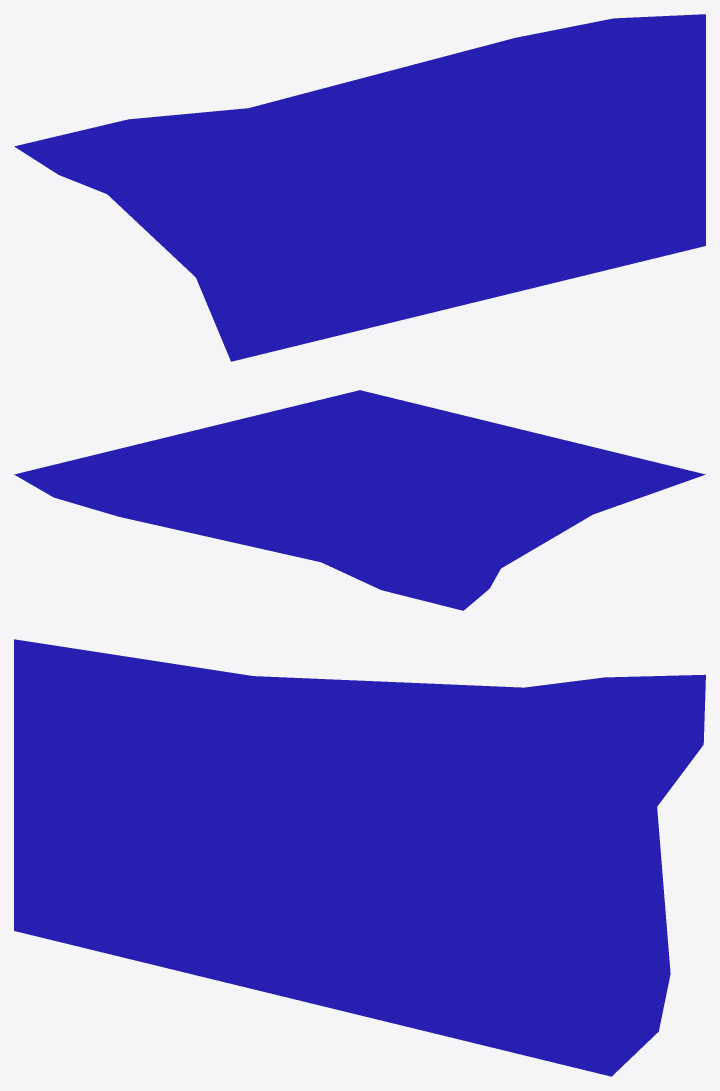
The model's file is agua2.fbx.
The picture shows the model from 3 angles, top to bottom: view 1: azimuth 30°, elevation 25°; view 2: azimuth 150°, elevation 25°; view 3: azimuth 270°, elevation 25°; orthographic projection. The views are drawn at different scales.
Parts seen in each view (by area): view 1: Cylinder007; view 2: Cylinder007; view 3: Cylinder007.
Boxes of the visible parts, left/top/right/bottom form: Cylinder007: left=14, top=14, right=705, bottom=361; Cylinder007: left=14, top=390, right=705, bottom=610; Cylinder007: left=14, top=639, right=705, bottom=1076.
Bounding box in the file's own units: 65.23 × 2.66e-15 × 43.61.
